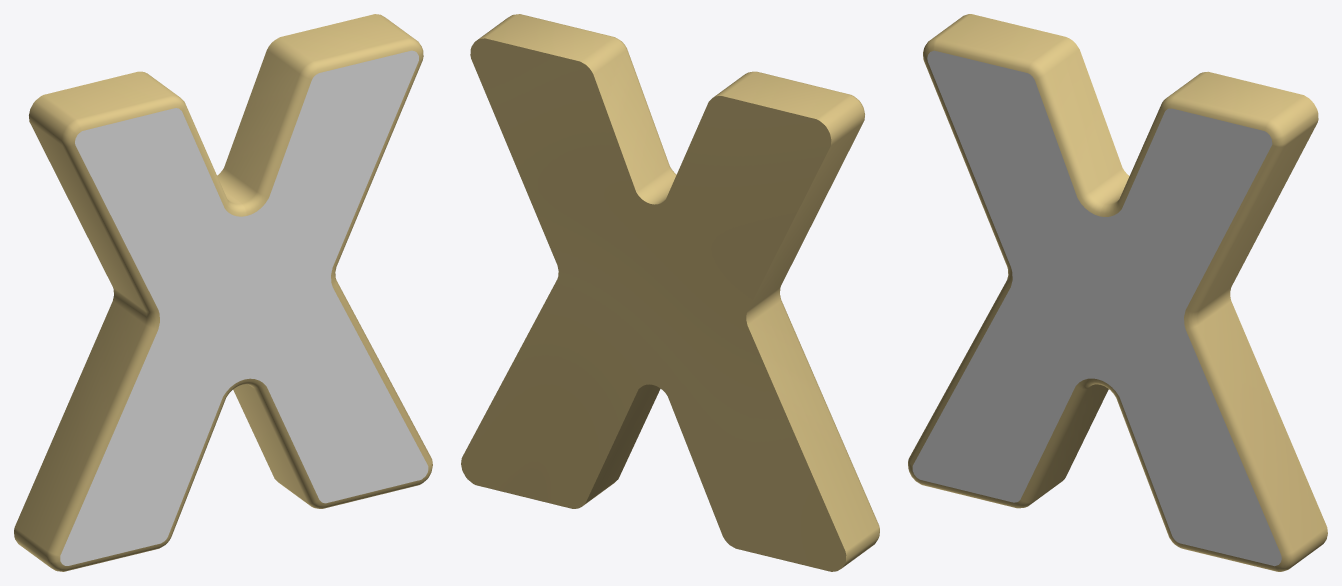
The model's file is LettersLightUp02_X.FBX.
3 renders of one model, left to right at view 1: azimuth 30°, elevation 25°; view 2: azimuth 150°, elevation 25°; view 3: azimuth 330°, elevation 25°, orthographic.
Parts seen in each view (by area): view 1: LettersLightUp02_X; view 2: LettersLightUp02_X; view 3: LettersLightUp02_X.
Boxes of the visible parts, x1,y1,x2,y2 form: LettersLightUp02_X: (14, 14, 432, 571); LettersLightUp02_X: (461, 14, 879, 571); LettersLightUp02_X: (908, 14, 1327, 571).
Size of what is drawn, in the model's own units: 0.538 by 0.5998 by 0.0912.
